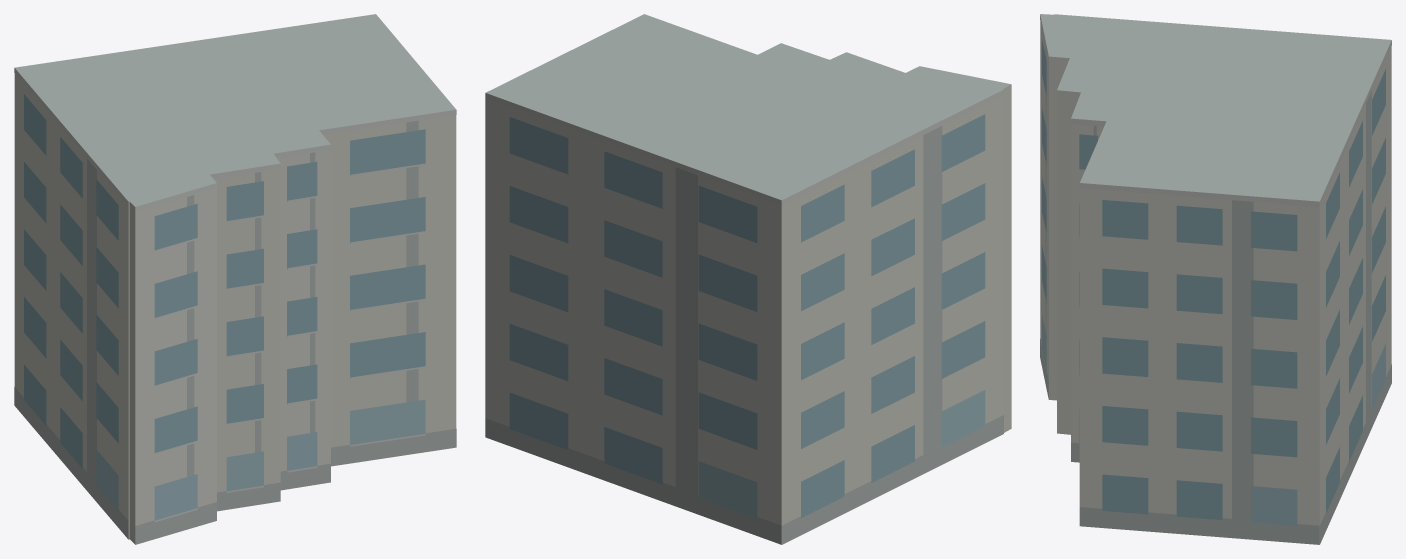
Rendered from survey-upis-32911671.glb.
3 views of the same model, side by side, from view 1: azimuth 30°, elevation 25°; view 2: azimuth 150°, elevation 25°; view 3: azimuth 270°, elevation 25° (orthographic).
Visible parts, largest first — view 1: survey-upis-32911671.tmp; view 2: survey-upis-32911671.tmp; view 3: survey-upis-32911671.tmp.
Boxes of the visible parts, box(x1,y1,x2,y2) form: survey-upis-32911671.tmp: box(14, 14, 456, 544); survey-upis-32911671.tmp: box(485, 14, 1011, 544); survey-upis-32911671.tmp: box(1040, 14, 1391, 544).
Size of the model in its own units: 18.17 by 15.5 by 14.4.
